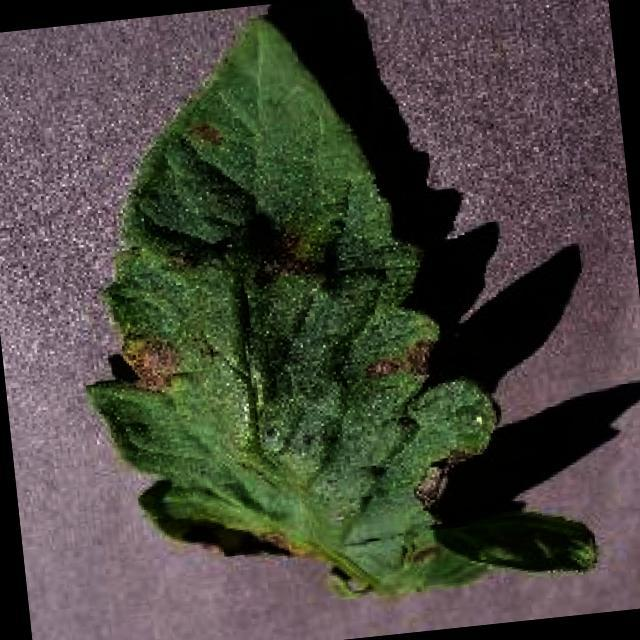Tomato Early blight leaf: (58, 0, 602, 627)
